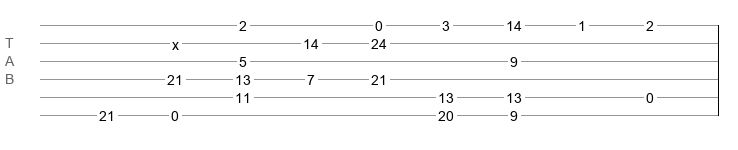0: (171, 108, 179, 118), (375, 18, 383, 28), (646, 90, 654, 100)
1: (578, 18, 586, 28)
11: (235, 90, 251, 100)
13: (235, 72, 251, 82), (438, 90, 454, 100), (506, 90, 522, 100)
14: (303, 36, 319, 46), (506, 18, 522, 28)
2: (239, 18, 247, 28), (646, 18, 654, 28)
20: (438, 108, 454, 118)
21: (99, 108, 115, 118), (167, 72, 183, 82), (371, 72, 387, 82)
24: (371, 36, 387, 46)
3: (442, 18, 450, 28)
5: (239, 54, 247, 64)
7: (307, 72, 315, 82)
9: (510, 54, 518, 64), (510, 108, 518, 118)
x: (172, 37, 179, 45)
